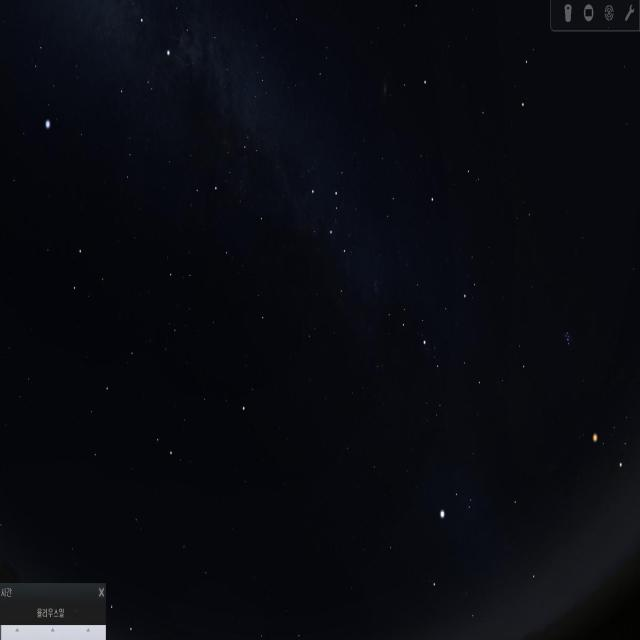cassiopeia: (297, 147, 364, 306)
pleiades: (560, 328, 580, 362)
